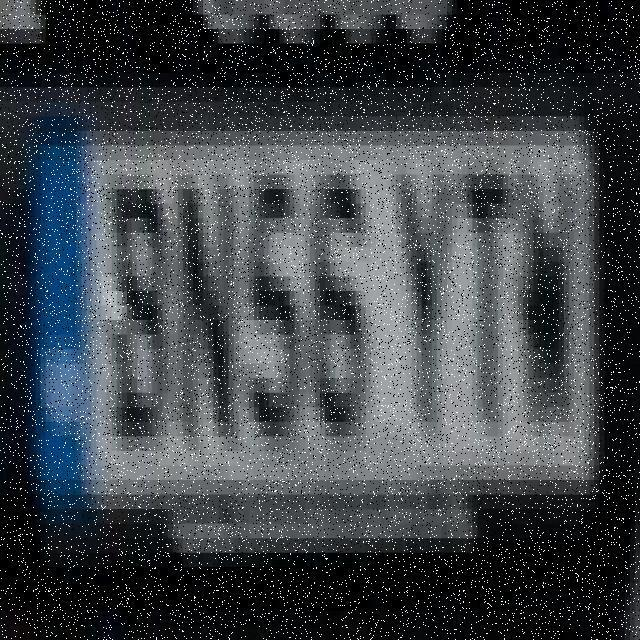LicensePlate: (16, 67, 613, 565)
